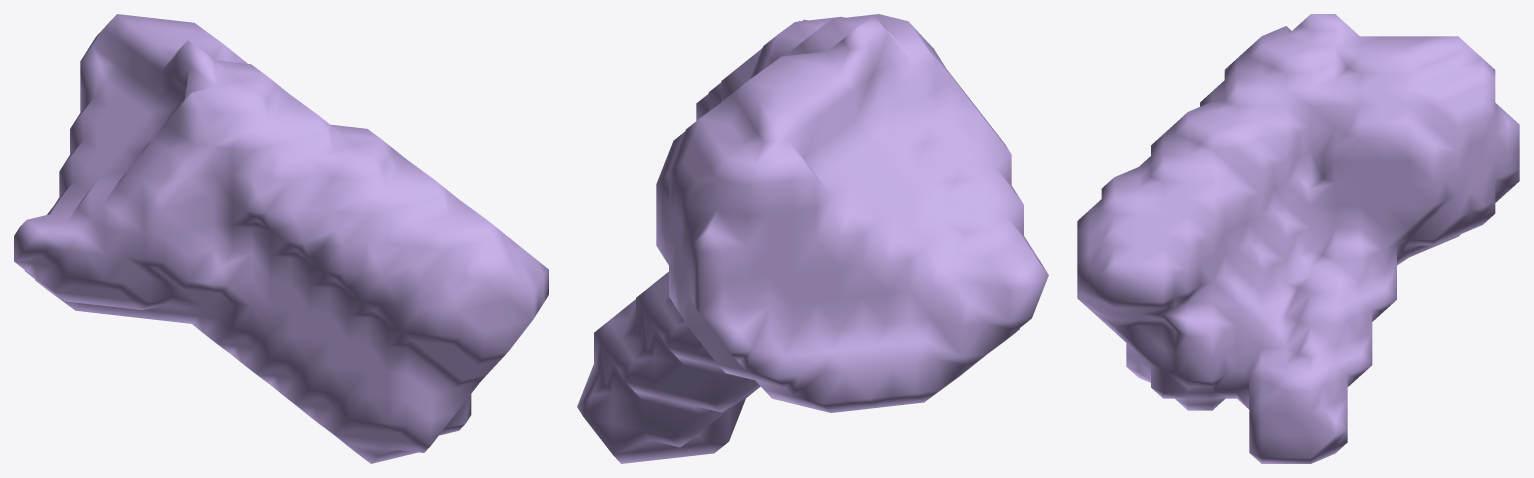
File: lxa.glb
3 renders of one model, left to right at view 1: azimuth 30°, elevation 25°; view 2: azimuth 150°, elevation 25°; view 3: azimuth 270°, elevation 25°, orthographic. The views are drawn at different scales.
Visible parts, largest first — view 1: structure; view 2: structure; view 3: structure.
Boxes of the visible parts, left/top/right/bottom form: structure: left=14, top=14, right=548, bottom=463; structure: left=577, top=14, right=1048, bottom=463; structure: left=1077, top=14, right=1519, bottom=463.
Size of the model in its own units: 25.6 by 25.6 by 28.8.
